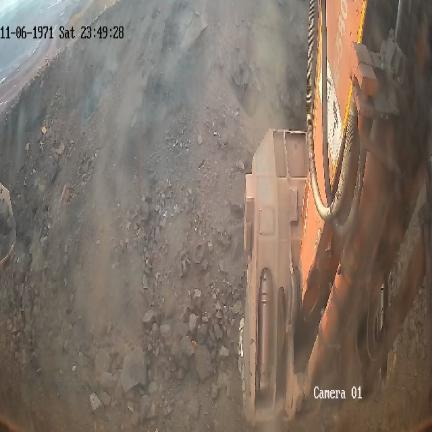pile: (2, 0, 305, 428)
